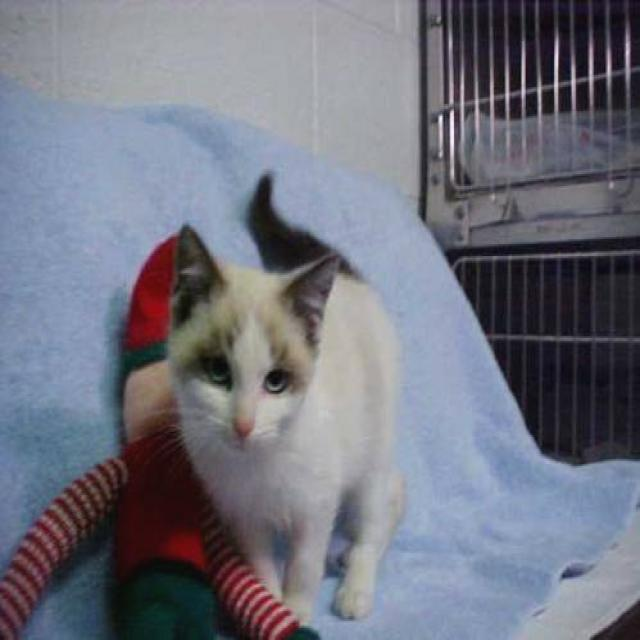Kucing: (93, 92, 488, 634)
